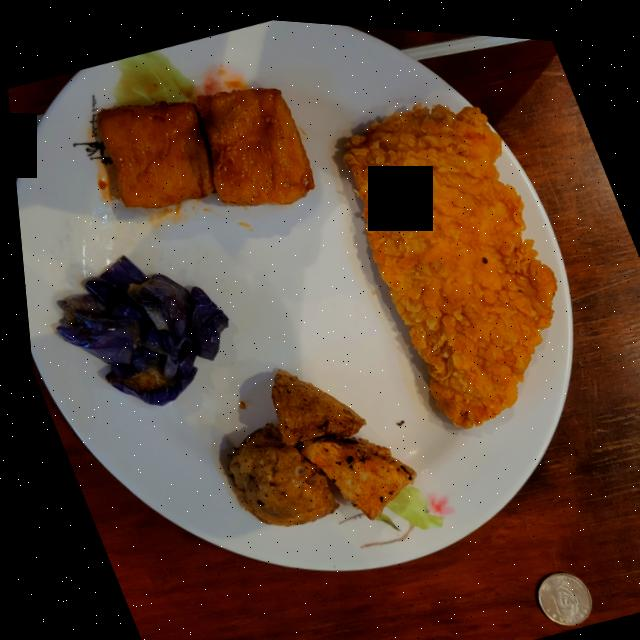coin: (526, 563, 581, 617)
creamy tofu: (95, 83, 311, 205)
fried chicken cutlet: (341, 97, 552, 421)
fried potato: (219, 365, 408, 522)
